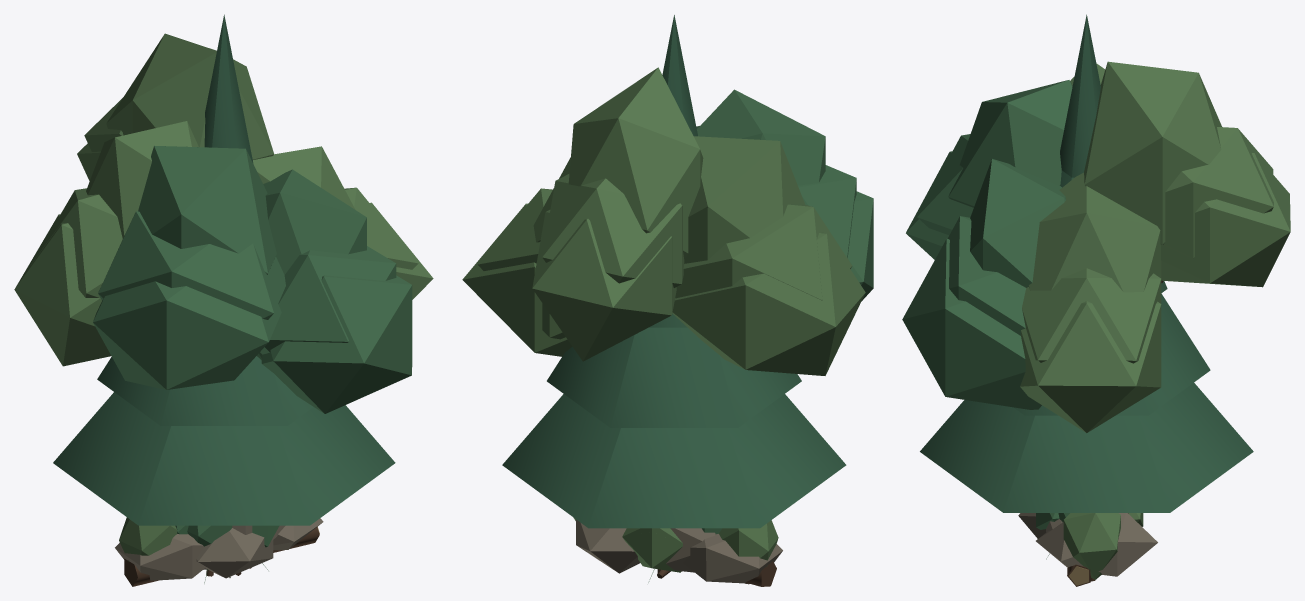
3 renders of one model, left to right at view 1: azimuth 30°, elevation 25°; view 2: azimuth 150°, elevation 25°; view 3: azimuth 270°, elevation 25°, orthographic. The views are drawn at different scales.
Visible parts, largest first — view 1: pine-tiered__low, oak-spreading__low, beech-upright__low, birch-open__low, outcrop-layered__low, hedge-fragment__low, hazel-shrub__low, fallen-log__low; view 2: pine-tiered__low, oak-spreading__low, beech-upright__low, birch-open__low, outcrop-layered__low, hedge-fragment__low, hazel-shrub__low, boulder-rounded__low; view 3: beech-upright__low, pine-tiered__low, oak-spreading__low, birch-open__low, hedge-fragment__low, outcrop-layered__low.
Boxes of the visible parts, bbox=[...] form: pine-tiered__low: bbox=[53, 14, 395, 525]; oak-spreading__low: bbox=[14, 143, 433, 413]; beech-upright__low: bbox=[86, 33, 366, 359]; birch-open__low: bbox=[31, 98, 418, 354]; outcrop-layered__low: bbox=[115, 518, 323, 580]; hedge-fragment__low: bbox=[119, 517, 188, 561]; hazel-shrub__low: bbox=[187, 525, 279, 576]; fallen-log__low: bbox=[124, 527, 319, 586]; pine-tiered__low: bbox=[502, 15, 846, 528]; oak-spreading__low: bbox=[462, 191, 873, 571]; beech-upright__low: bbox=[533, 67, 825, 263]; birch-open__low: bbox=[477, 165, 856, 339]; outcrop-layered__low: bbox=[576, 520, 782, 583]; hedge-fragment__low: bbox=[573, 517, 778, 584]; hazel-shrub__low: bbox=[622, 528, 682, 572]; boulder-rounded__low: bbox=[666, 528, 715, 572]; beech-upright__low: bbox=[948, 61, 1221, 292]; pine-tiered__low: bbox=[920, 14, 1253, 512]; oak-spreading__low: bbox=[902, 151, 1290, 432]; birch-open__low: bbox=[917, 127, 1273, 363]; hedge-fragment__low: bbox=[1058, 513, 1120, 581]; outcrop-layered__low: bbox=[1018, 513, 1157, 576].
Size of the model in its own units: 7.44 by 10.5 by 6.92.
